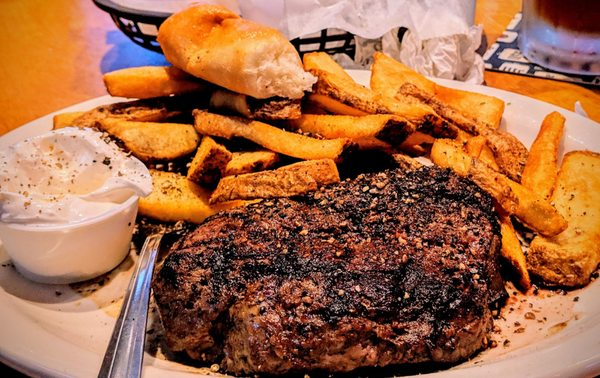pizza: (517, 1, 600, 78)
sushi: (0, 126, 151, 286)
